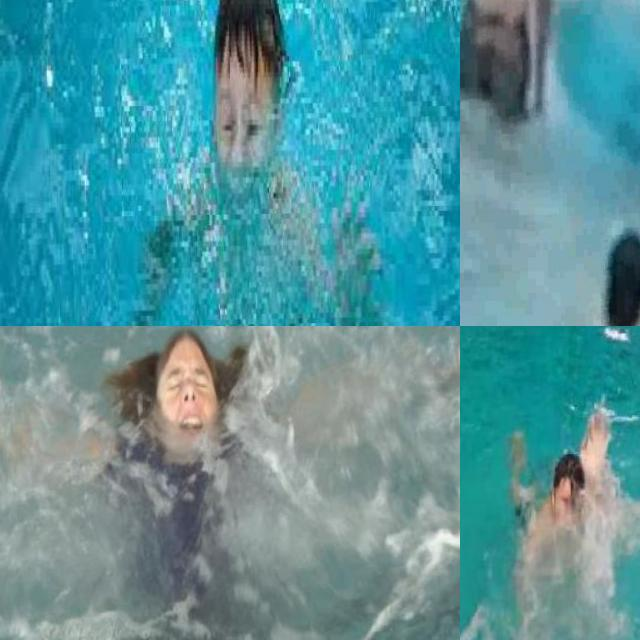drowning: (0, 326, 460, 566), (108, 0, 382, 326), (502, 386, 628, 583)
swimming: (460, 0, 548, 167), (534, 190, 640, 326)
